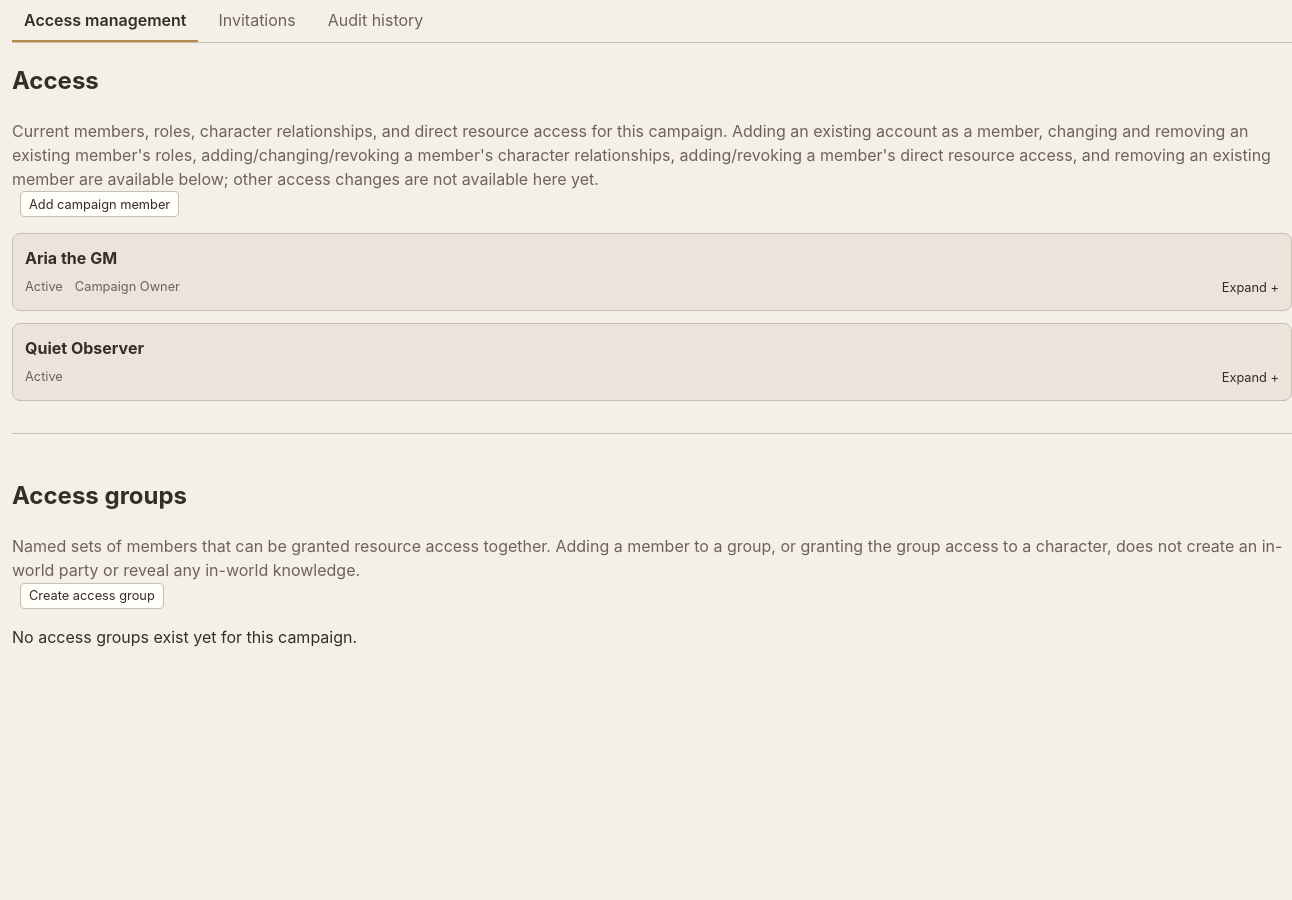
Test: CampaignAccessPage add-member flow › reports a denied add for a member without access.manage, without adding the row optimistically
Expected: the heading "Access" is shown, top-left (12, 66), bottom-right (99, 95)
Click the button "Add campaign member" at (100, 204), box top-left (20, 191), bottom-right (179, 217)
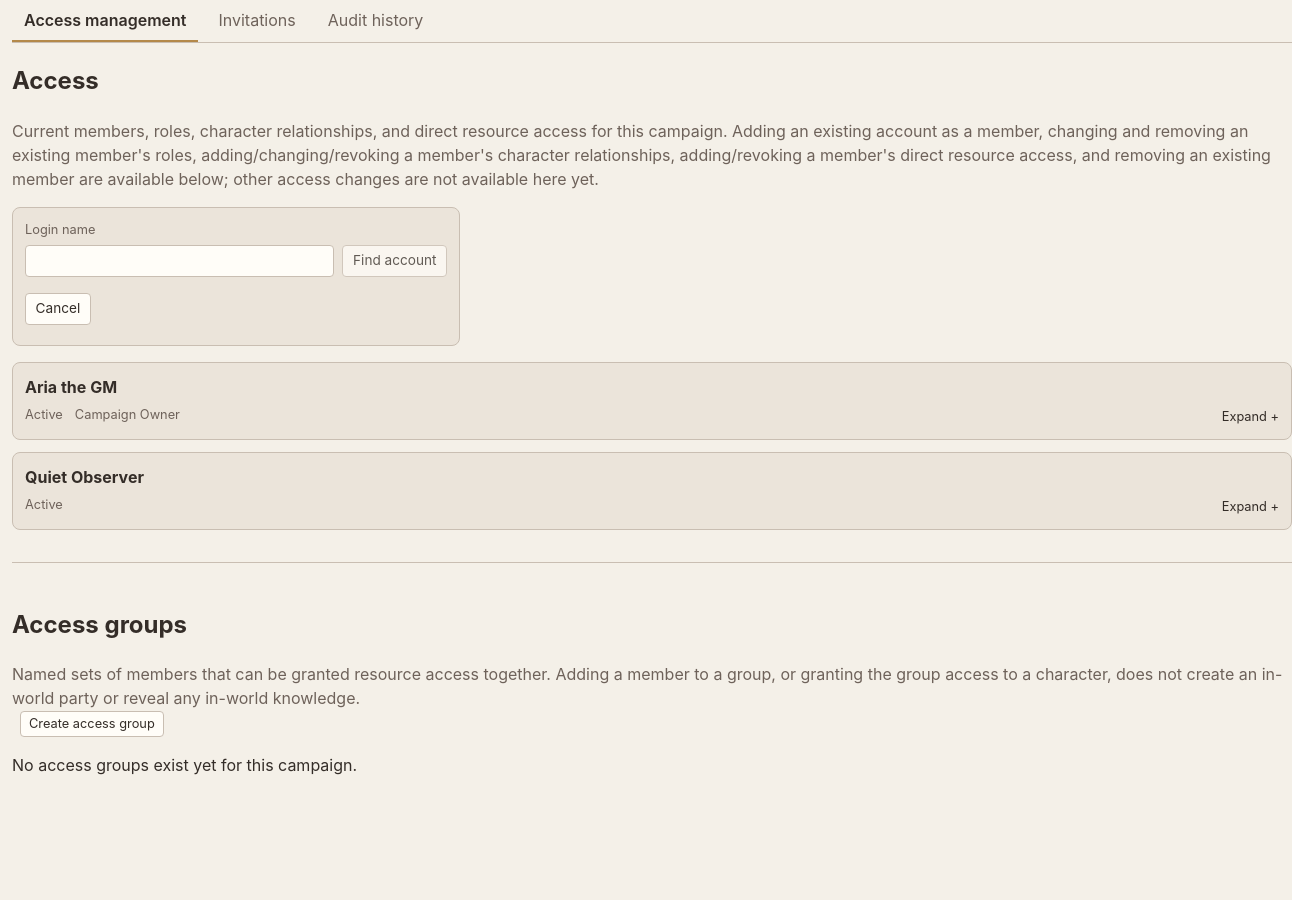
Type "player.one" into the field labelled "Login name" at (180, 261), box top-left (25, 245), bottom-right (334, 277)
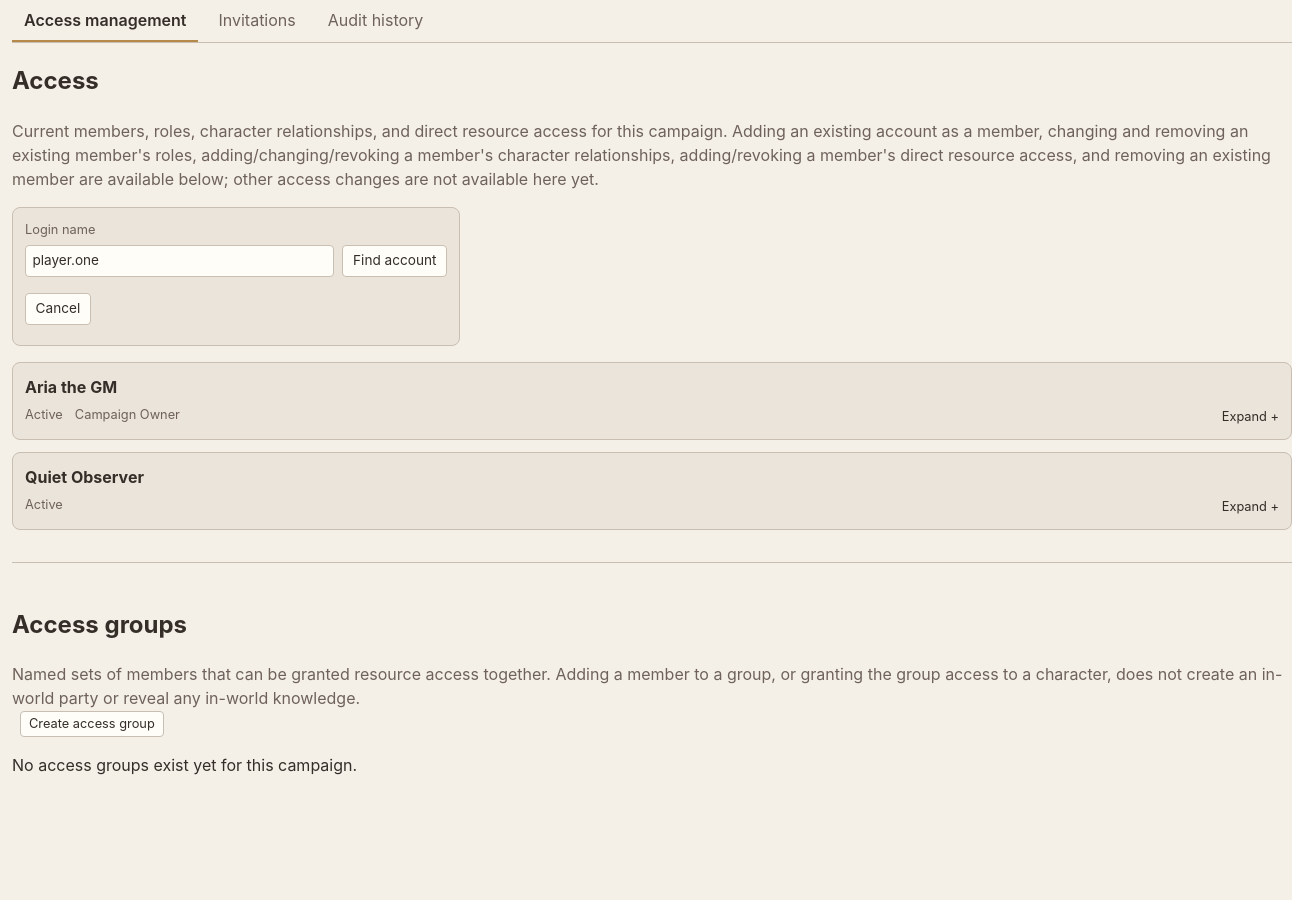
Click the button "Find account" at (395, 261), box top-left (342, 245), bottom-right (447, 277)
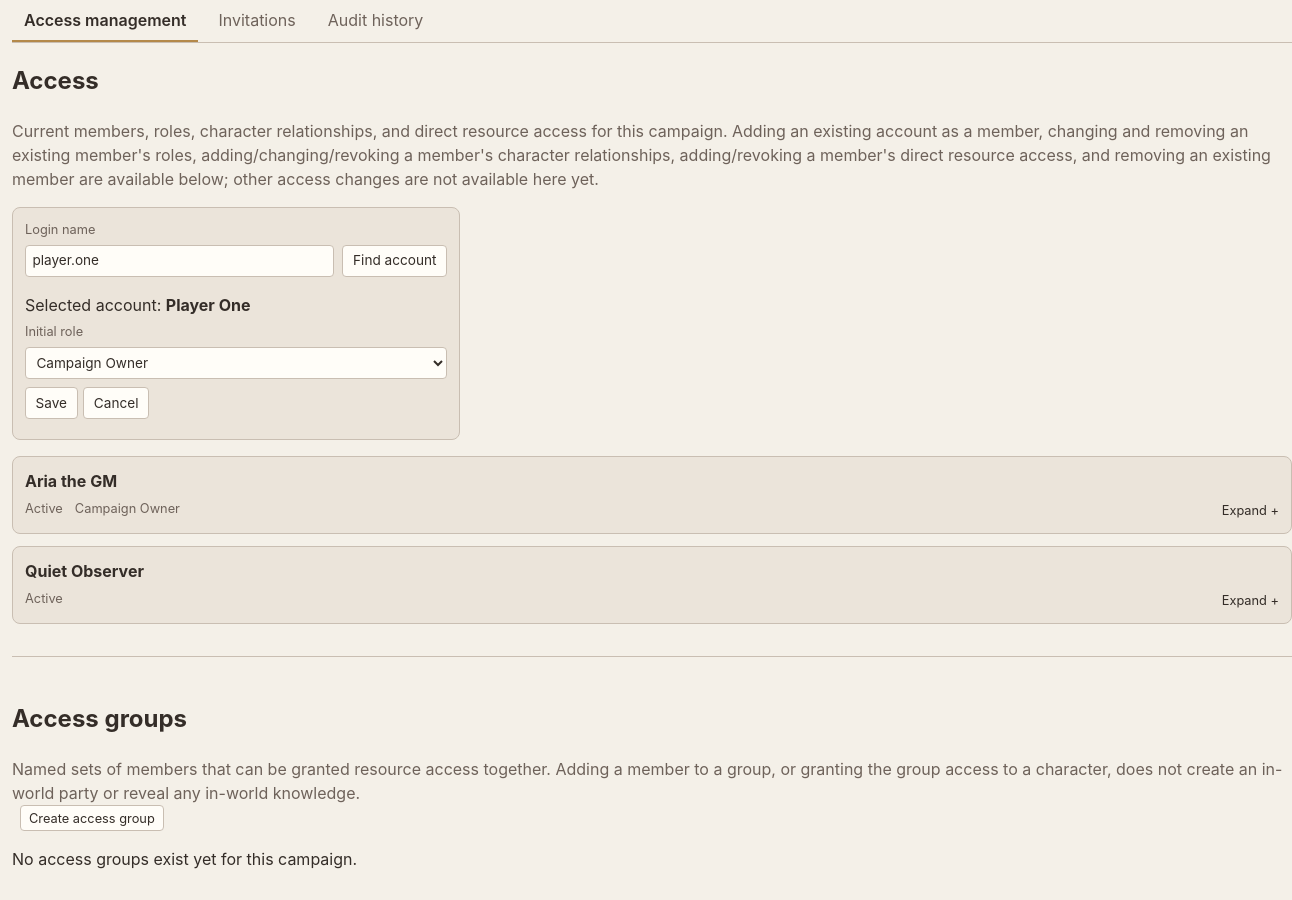
Click the button "Save" at (51, 403), box top-left (25, 387), bottom-right (78, 419)
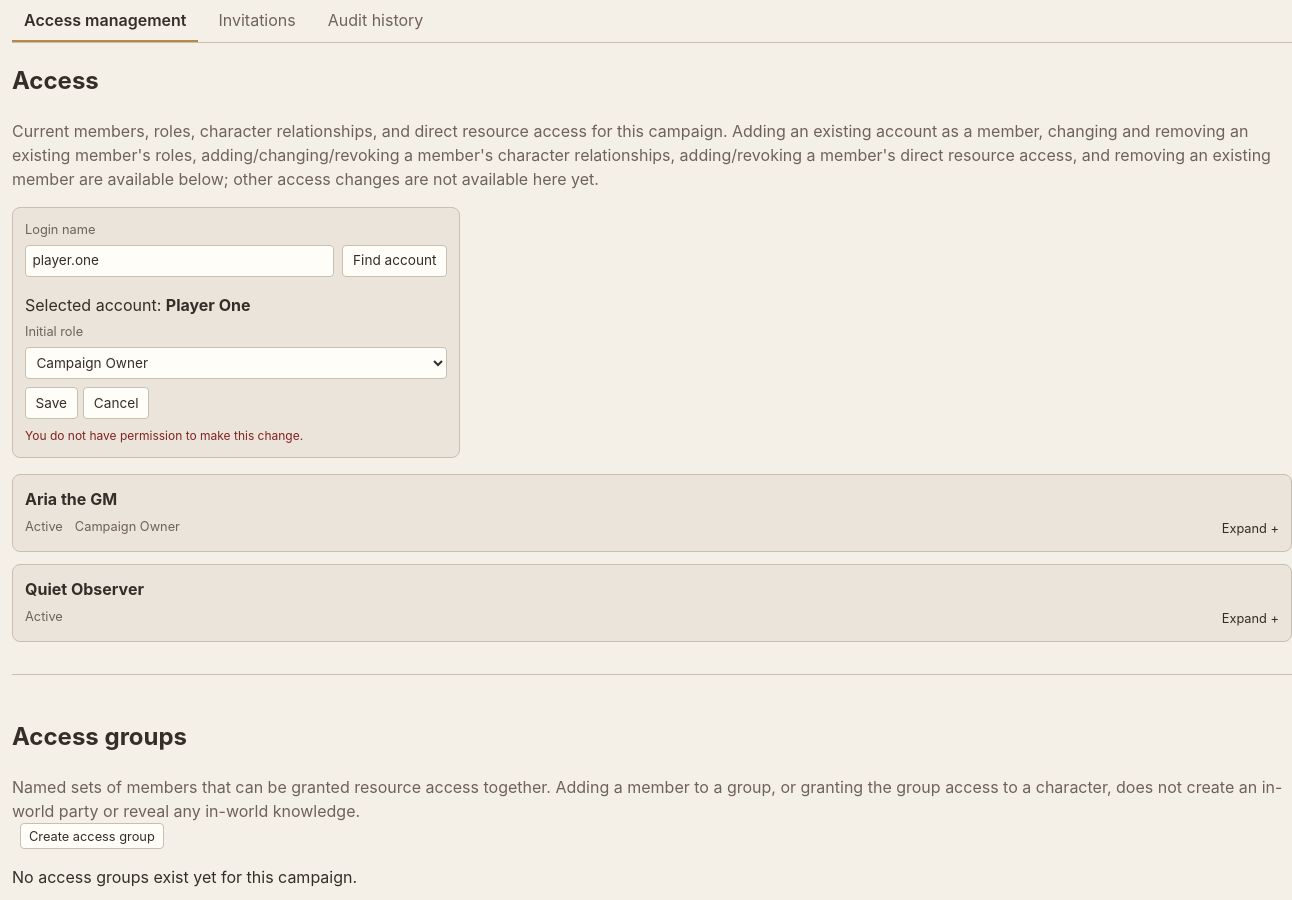
Expected: the text "You do not have permission to make this change." is shown, top-left (25, 428), bottom-right (303, 443)
